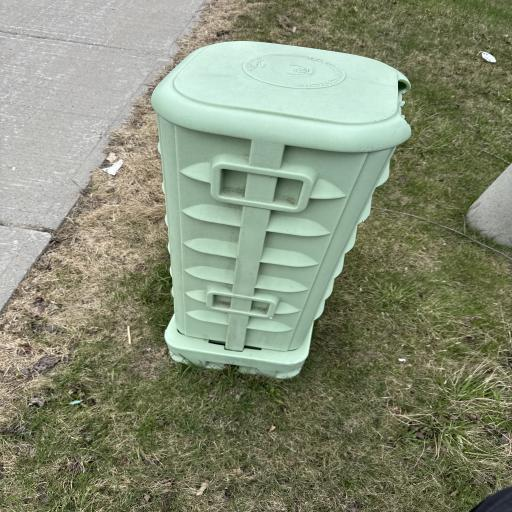Electrical Box: (152, 39, 411, 382)
